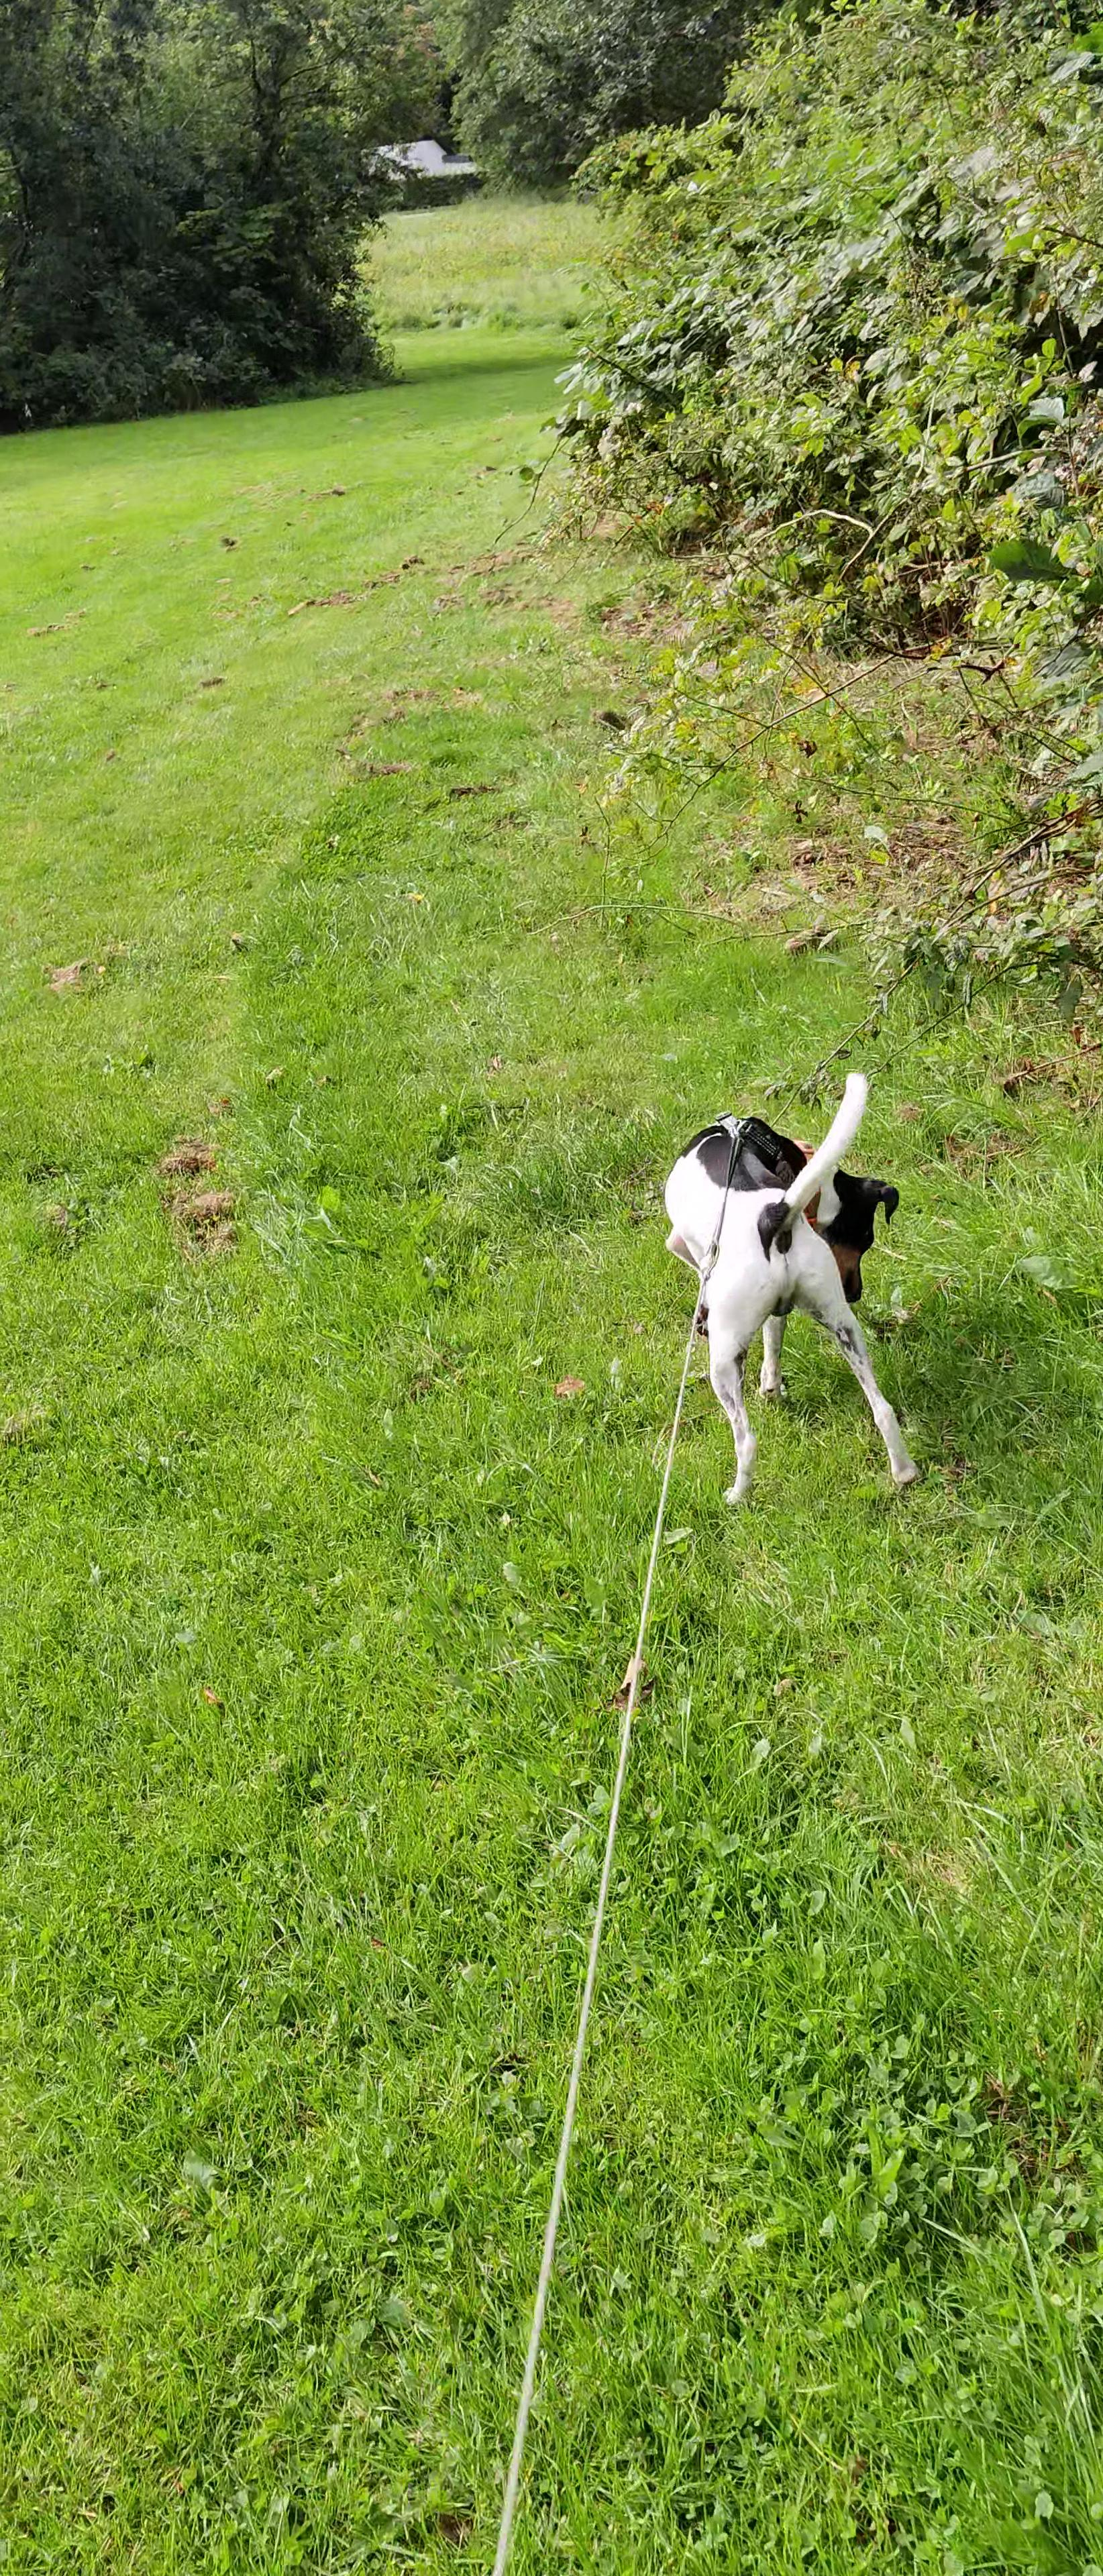Dog: (646, 1065, 929, 1528)
